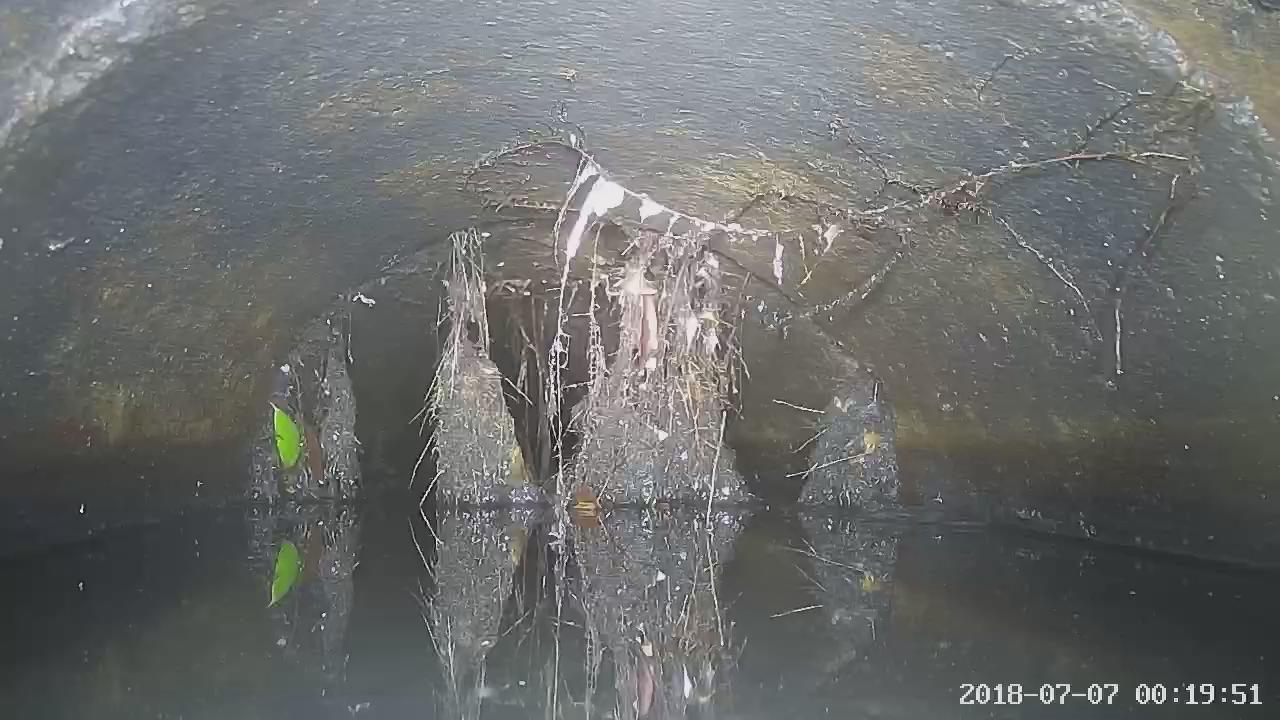SG: (417, 132, 1189, 522), (253, 328, 360, 503), (1101, 207, 1168, 299)
